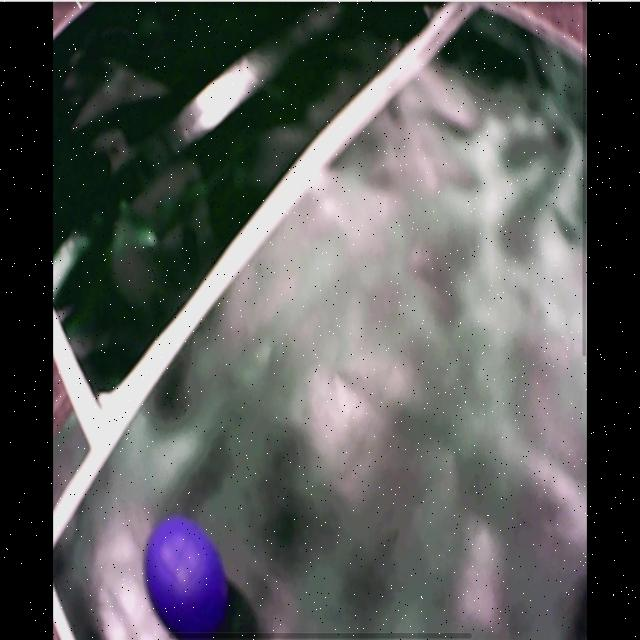ball: (146, 518, 226, 636)
